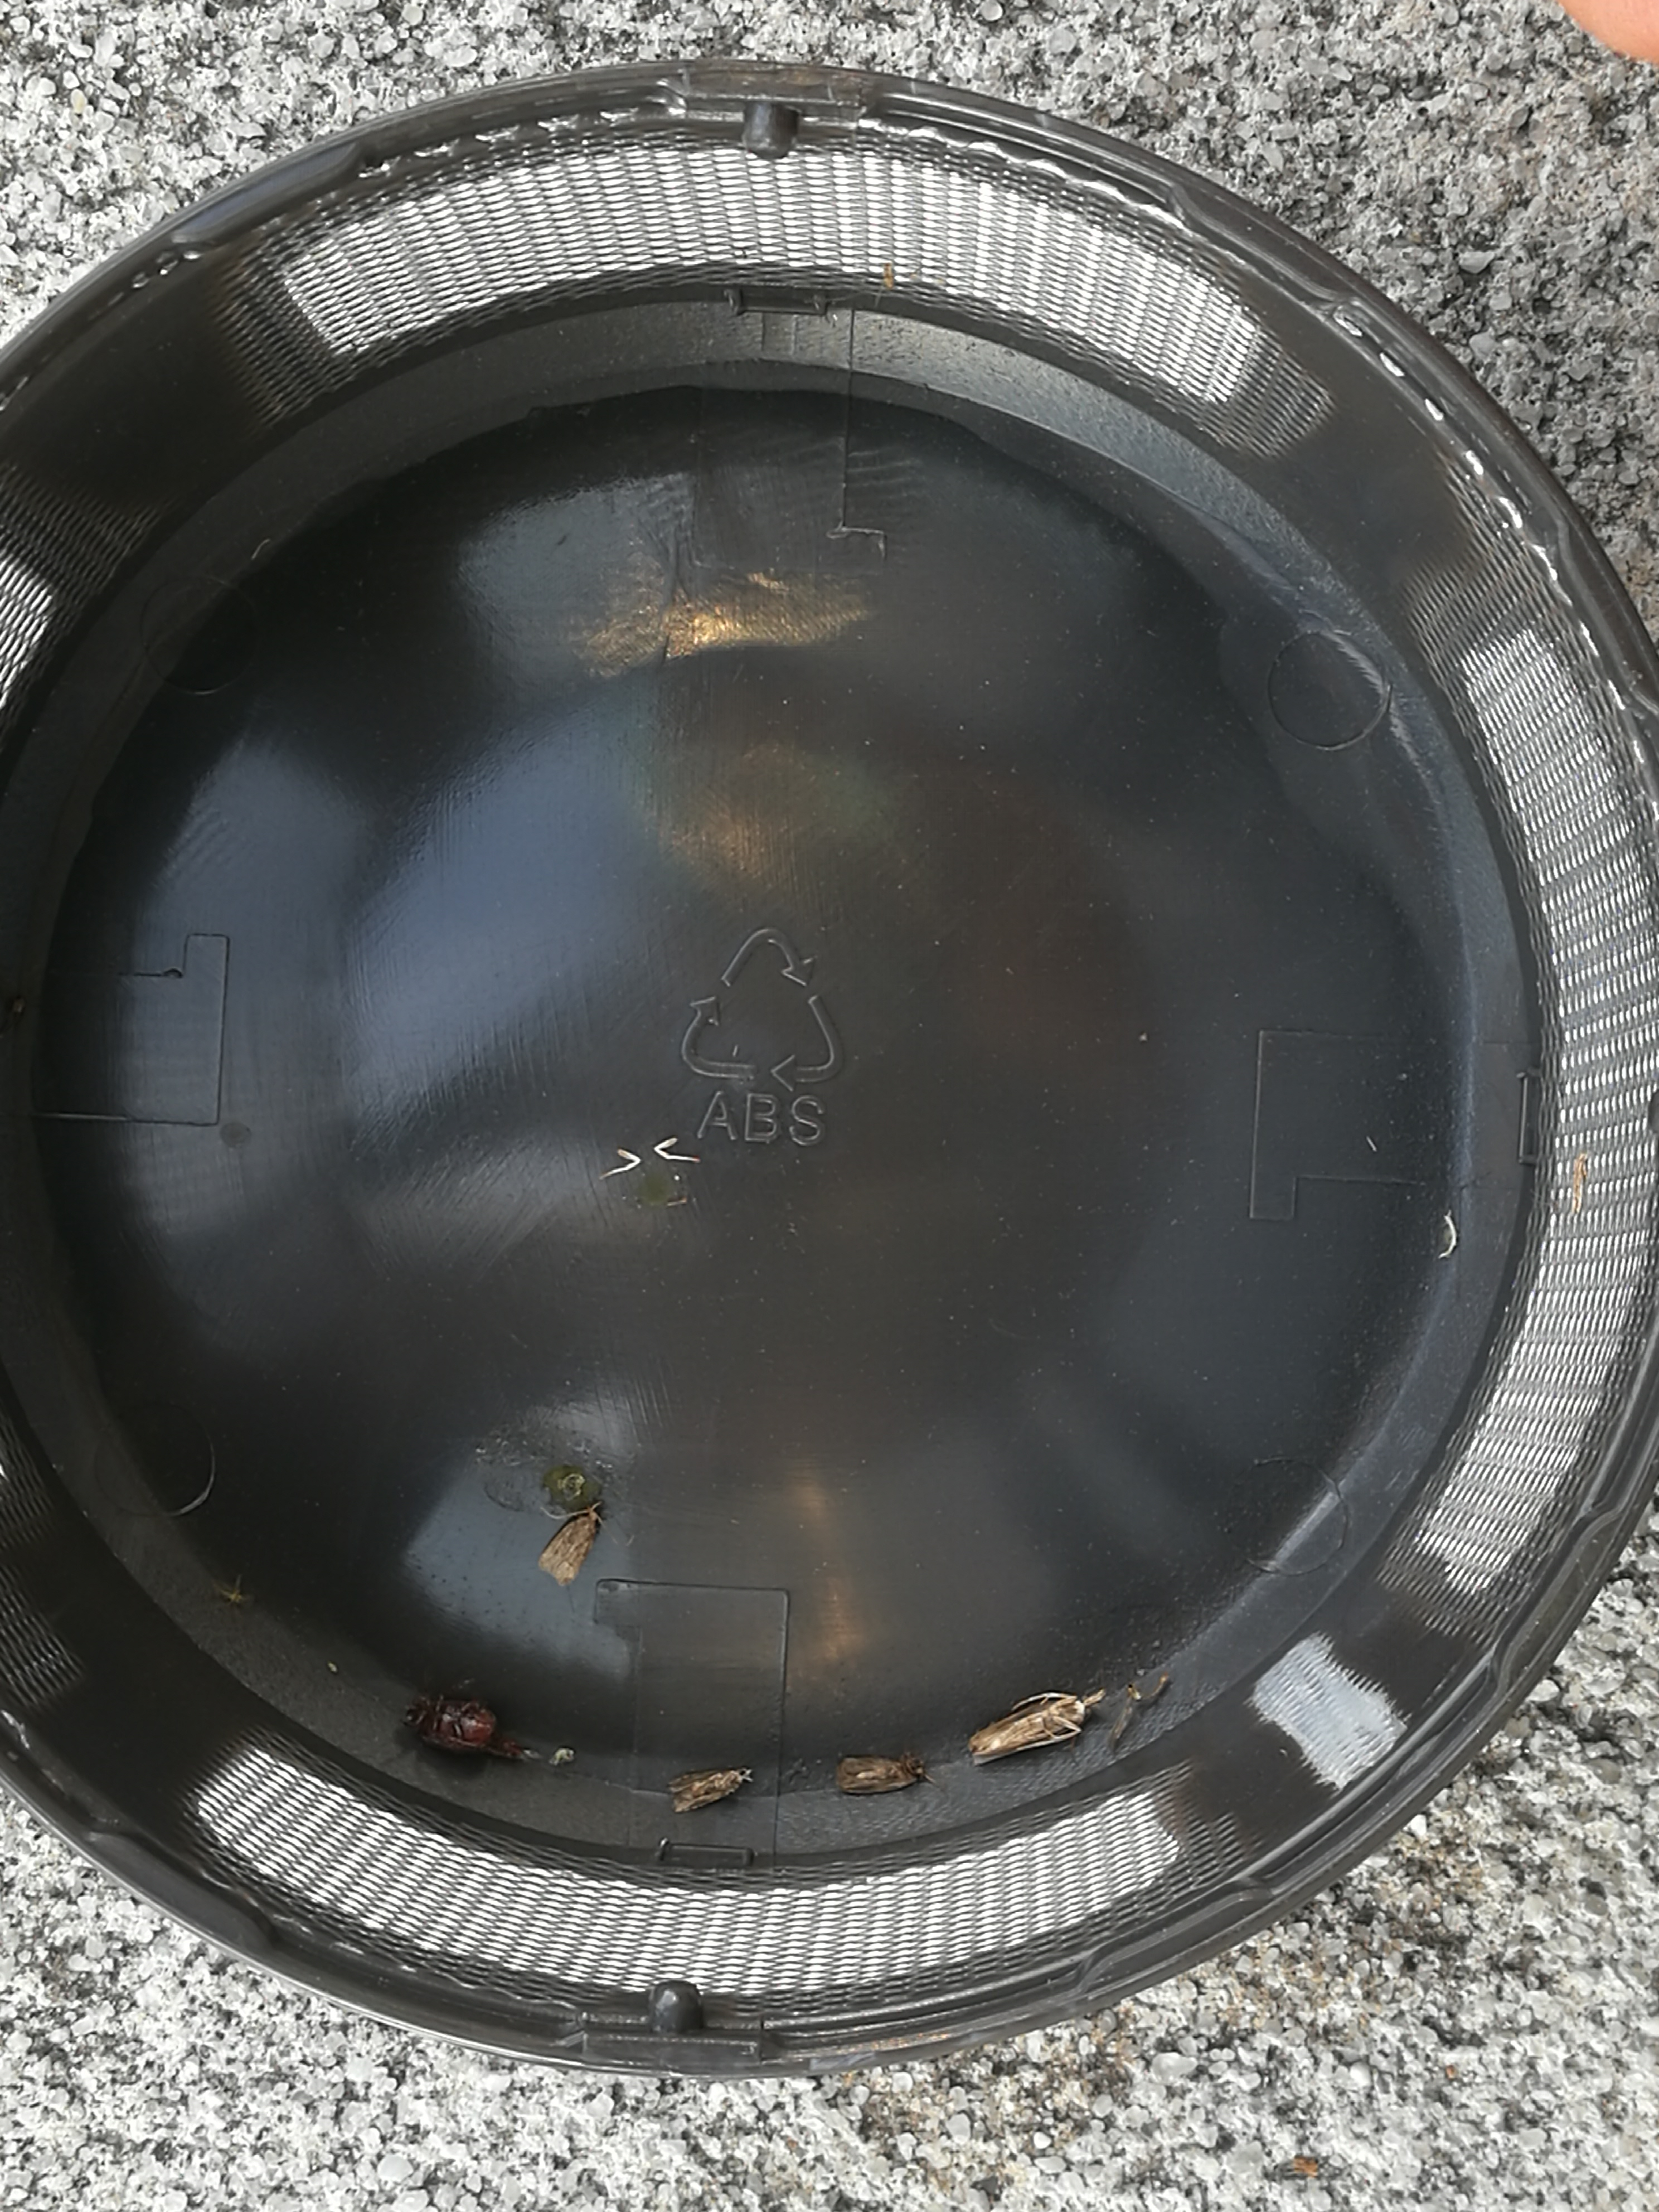beetle: (407, 1699, 495, 1754)
mosquito: (968, 1692, 1090, 1764), (666, 1767, 749, 1812), (836, 1755, 921, 1794)
moth: (539, 1510, 598, 1584)
